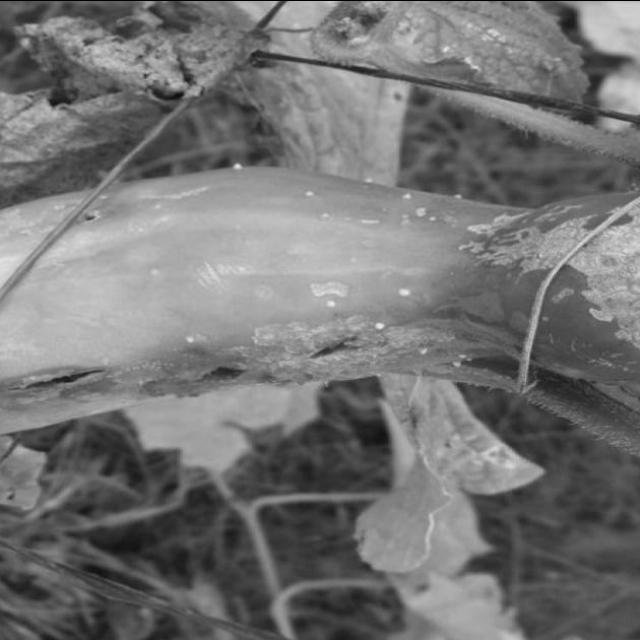Aphids: (0, 293, 517, 432), (0, 0, 284, 211), (331, 0, 416, 61), (424, 443, 514, 488), (386, 389, 447, 448)
